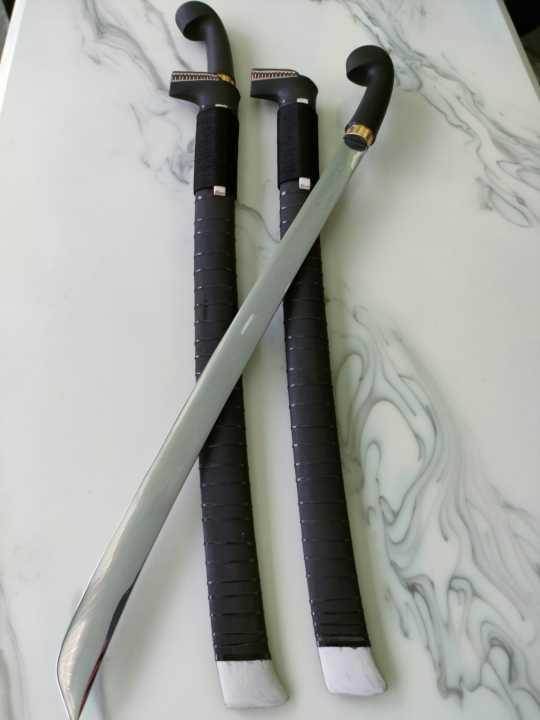espada: (58, 45, 393, 719)
